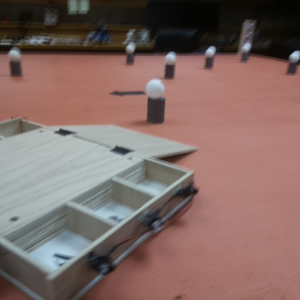corner: (240, 17, 255, 53)
obstacle: (147, 81, 166, 121), (8, 49, 26, 80), (286, 49, 300, 80), (164, 51, 178, 77), (123, 41, 139, 63), (205, 45, 215, 72), (240, 45, 251, 64)
side: (47, 172, 198, 300)
slope: (51, 119, 201, 160)
start: (109, 86, 149, 98)
